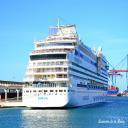cruises: (23, 16, 110, 113)
